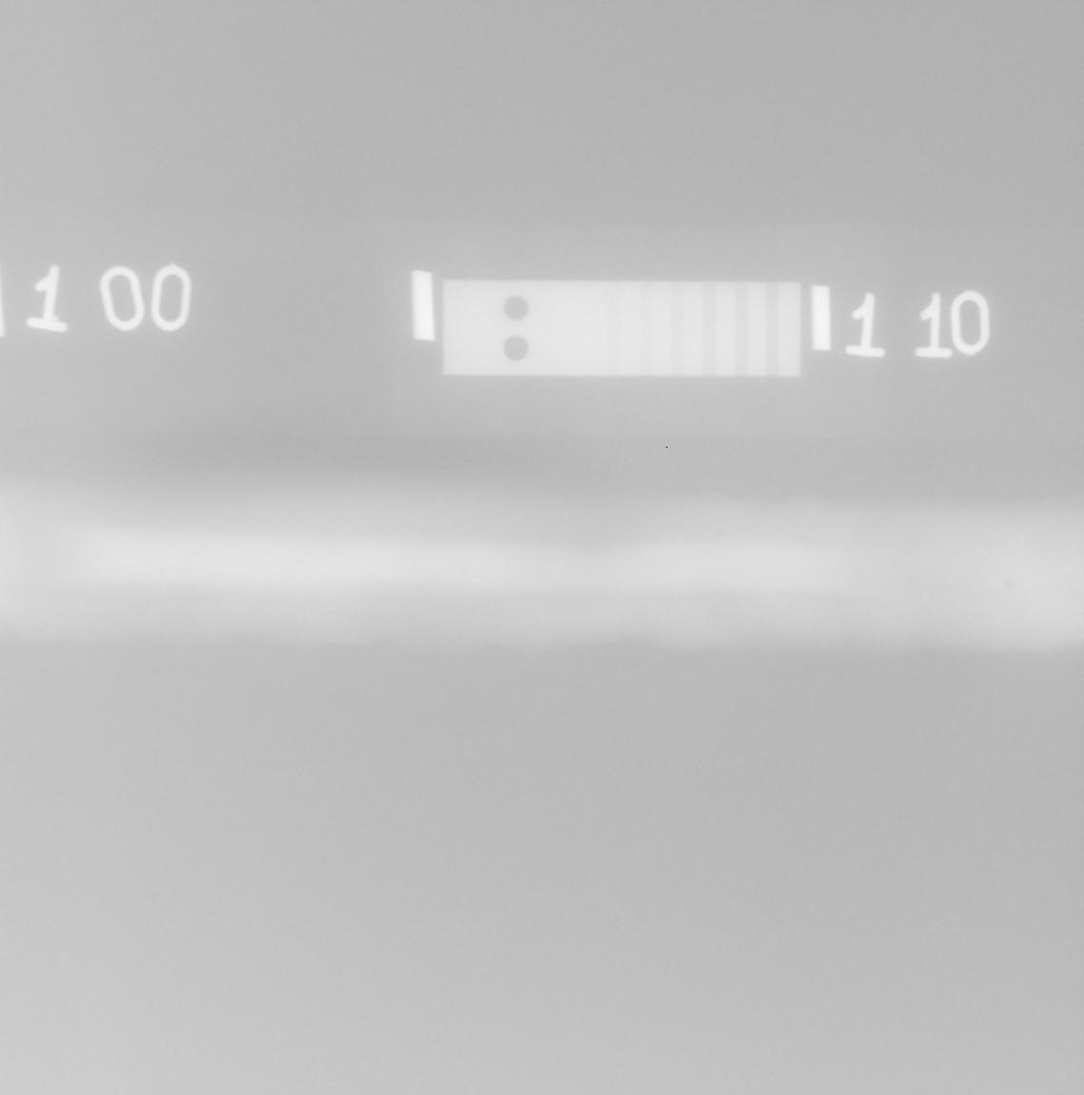Pore/Porosity: (1003, 579, 1015, 589), (460, 568, 468, 575), (715, 528, 723, 535)
Reference Standard 2: (442, 280, 800, 376)
